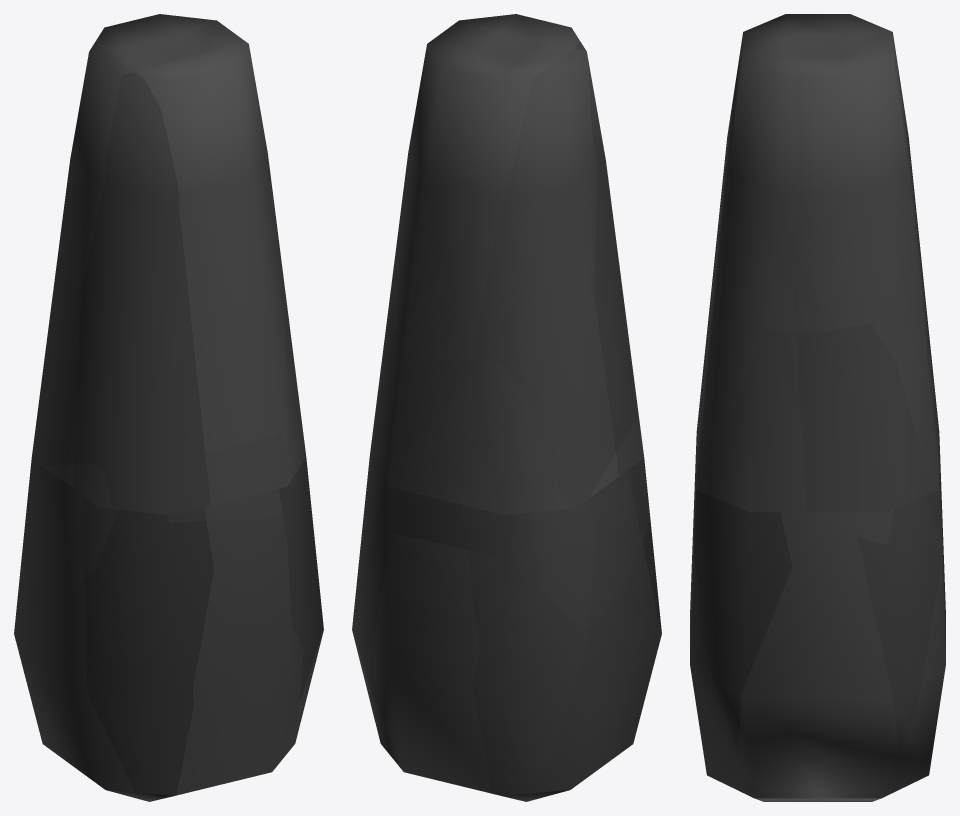
Rendered from pestle.obj.
The picture shows the model from 3 angles, left to right: view 1: azimuth 30°, elevation 25°; view 2: azimuth 150°, elevation 25°; view 3: azimuth 270°, elevation 25°; orthographic projection.
Parts seen in each view (by area): view 1: Pestle_Cube.001; view 2: Pestle_Cube.001; view 3: Pestle_Cube.001.
Part boxes in pixels (box(x1,y1,x2,y2)): Pestle_Cube.001: box(14, 14, 323, 801); Pestle_Cube.001: box(352, 14, 661, 801); Pestle_Cube.001: box(690, 14, 945, 801).
Size of the model in its own units: 0.7531 by 2.2 by 0.6952.
